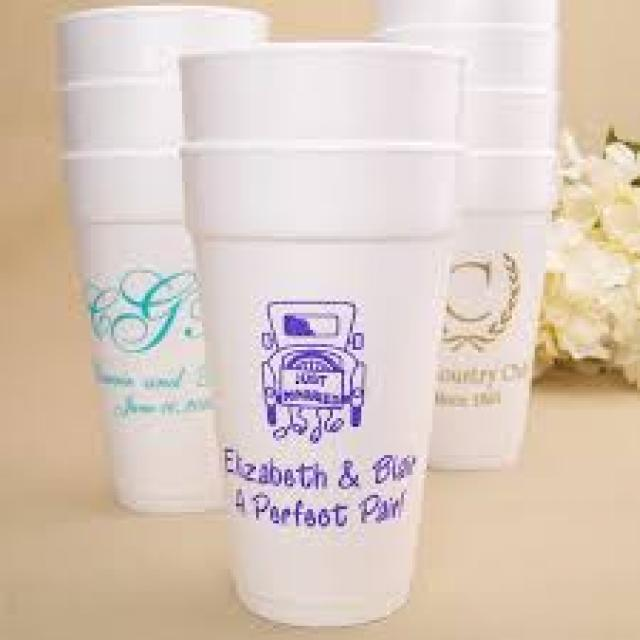organic waste: (532, 125, 637, 387)
